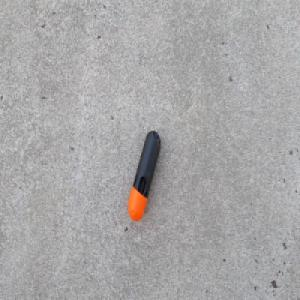PlasticPart: (126, 129, 161, 223)
